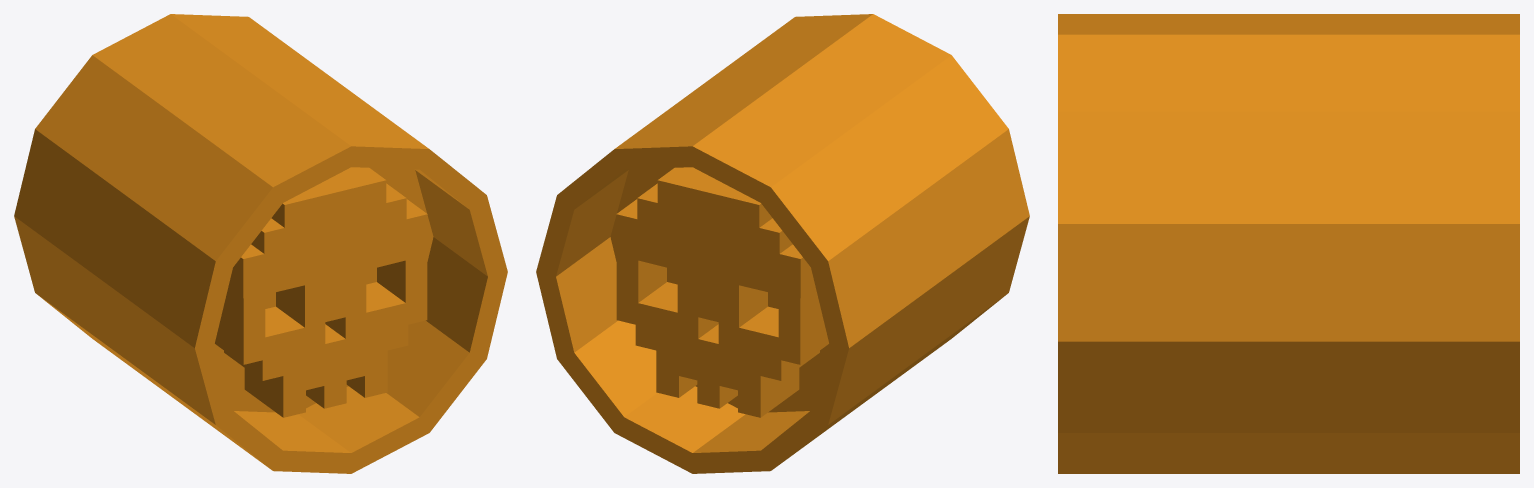
The model's file is Golden_Coin.fbx.
3 views of the same model, side by side, from view 1: azimuth 30°, elevation 25°; view 2: azimuth 150°, elevation 25°; view 3: azimuth 270°, elevation 25° (orthographic). The views are drawn at different scales.
Visible parts, largest first — view 1: Golden_Coin; view 2: Golden_Coin; view 3: Golden_Coin.
Boxes of the visible parts, bbox=[...] form: Golden_Coin: bbox=[14, 14, 507, 473]; Golden_Coin: bbox=[536, 14, 1029, 473]; Golden_Coin: bbox=[1058, 14, 1519, 473].
Size of the model in its own units: 2 by 2 by 2.
